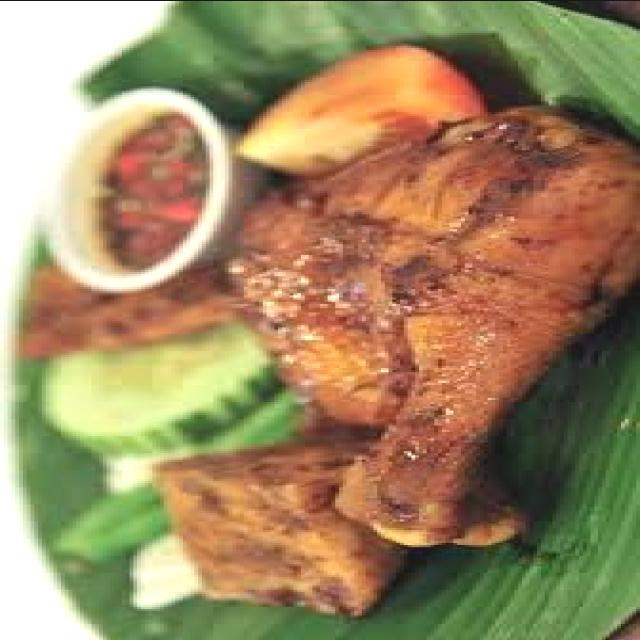ayam goreng: (221, 107, 640, 546)
